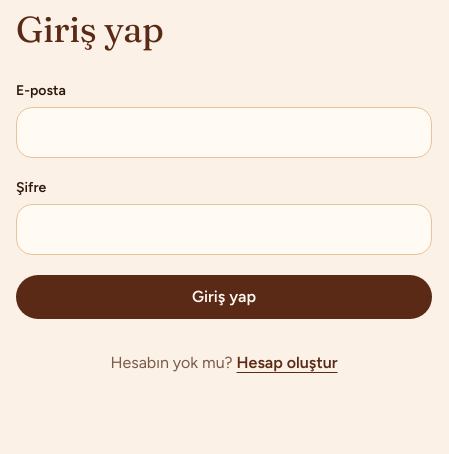
Scenario: LoginPage › shows a message for wrong credentials
Type "ali@x.com" into the field labelled "E-posta".
click(224, 132); type("ali@x.com")  # box [16, 107, 432, 158]
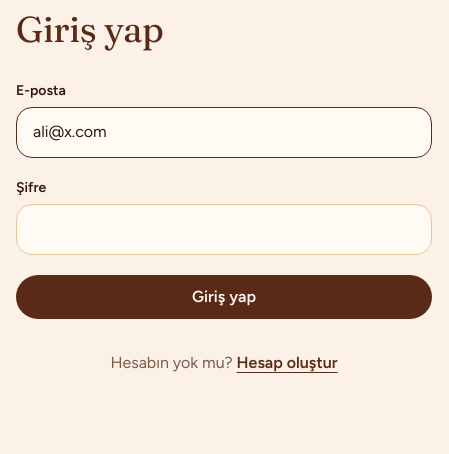
Type "Sifre-1234" into the password field labelled "Şifre".
click(224, 229); type("Sifre-1234")  # box [16, 204, 432, 255]
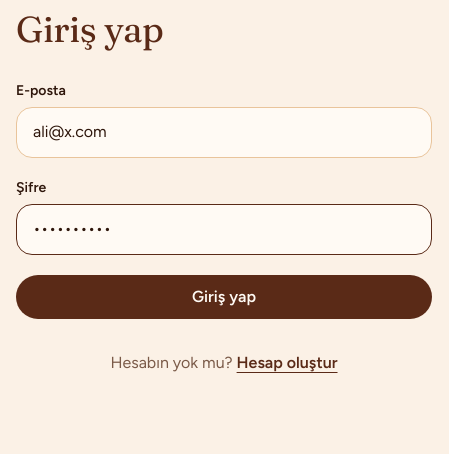
Click the button "Giriş yap".
click(224, 297)  # box [16, 275, 432, 319]
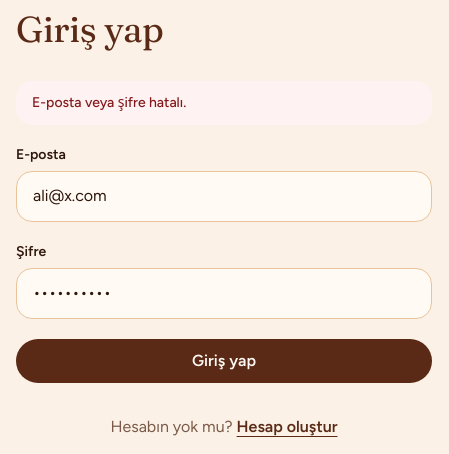
Expected: the message reads "E-posta veya şifre hatalı.", [32, 94, 186, 111]
